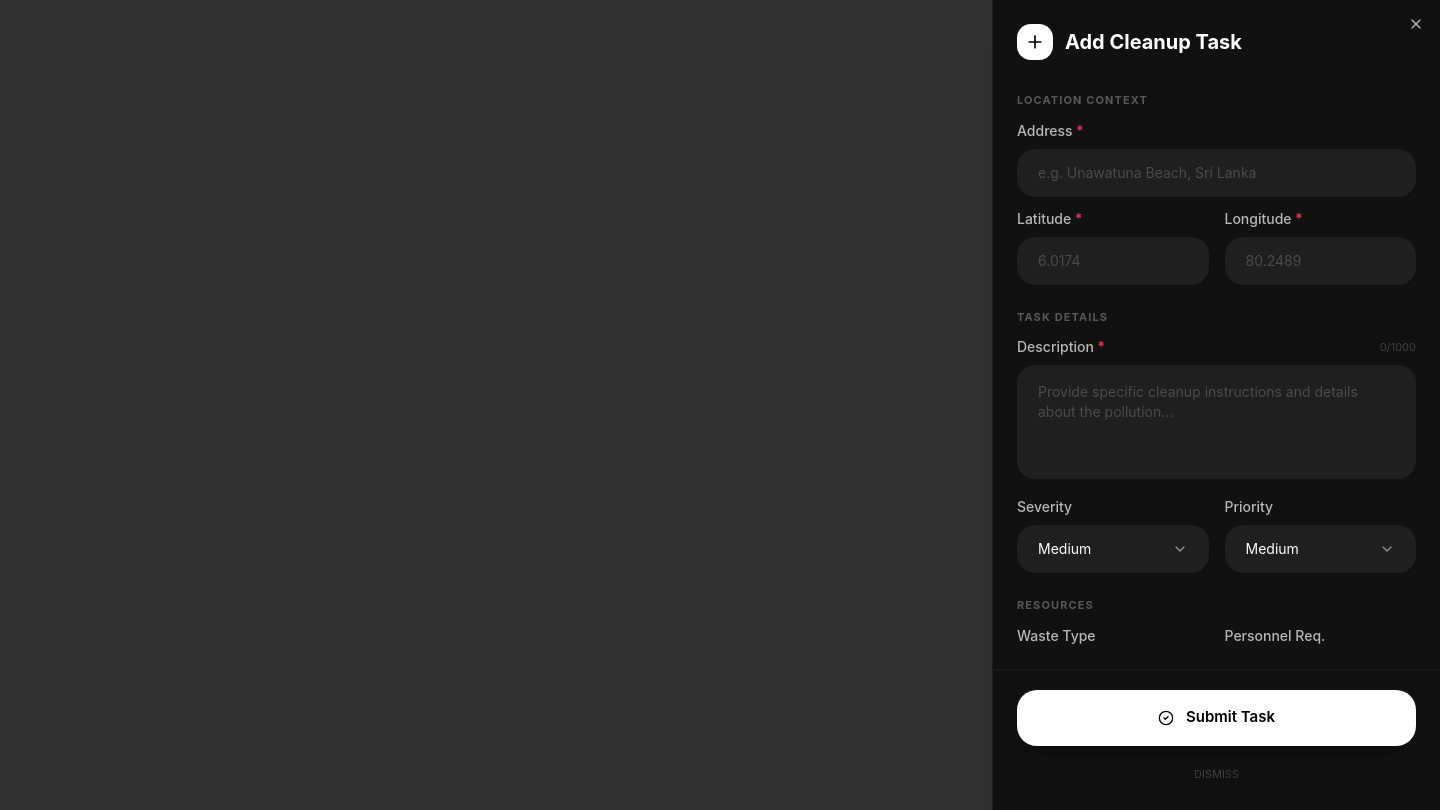
it: CreateTaskModal Component Validation › validates coordinates range
This screenshot has width=1440, height=810.
Type "95" into the number field with placeholder "6.0174" at (1113, 260), box [1017,236,1208,284]
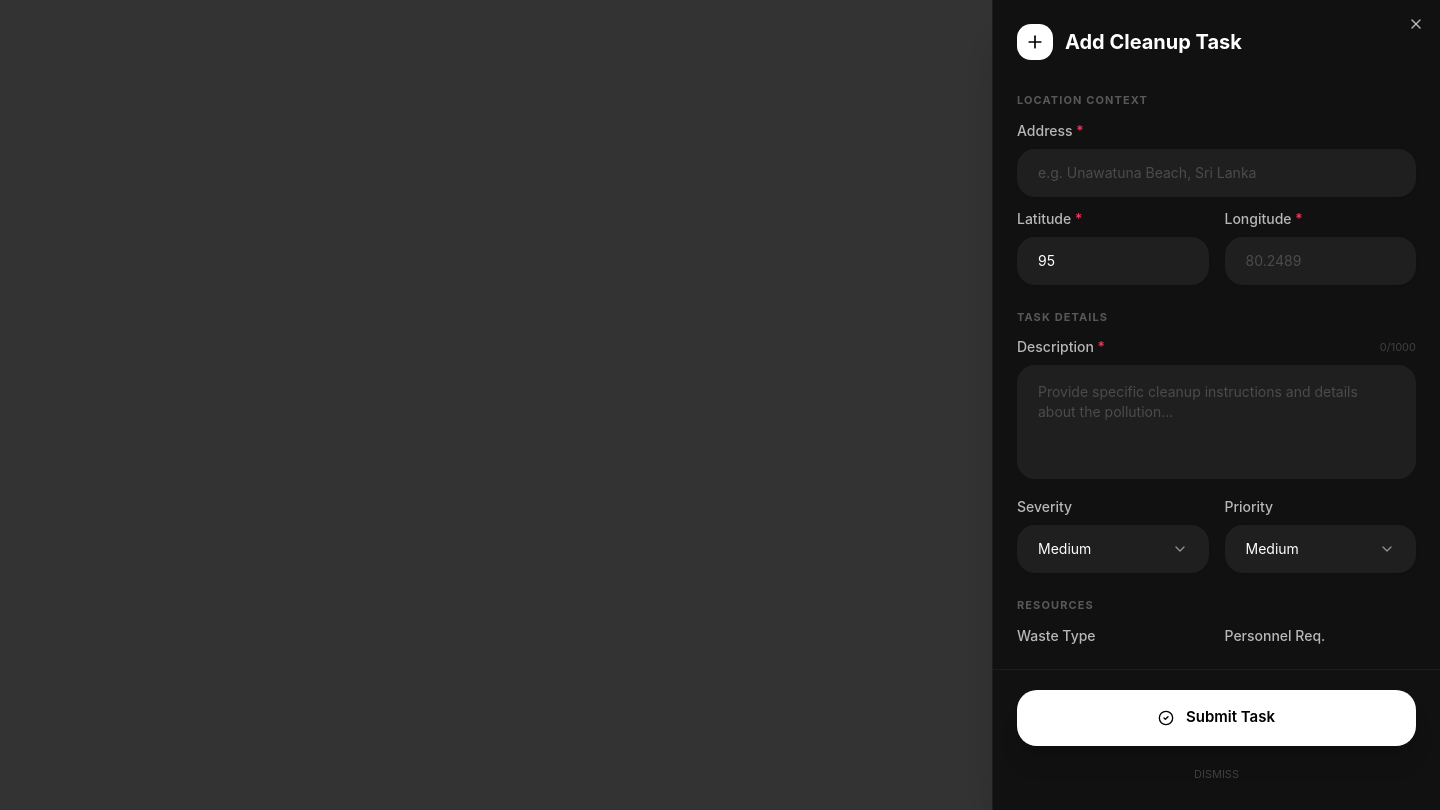
Type "200" into the number field with placeholder "80.2489" at (1320, 260), box [1224,236,1416,284]
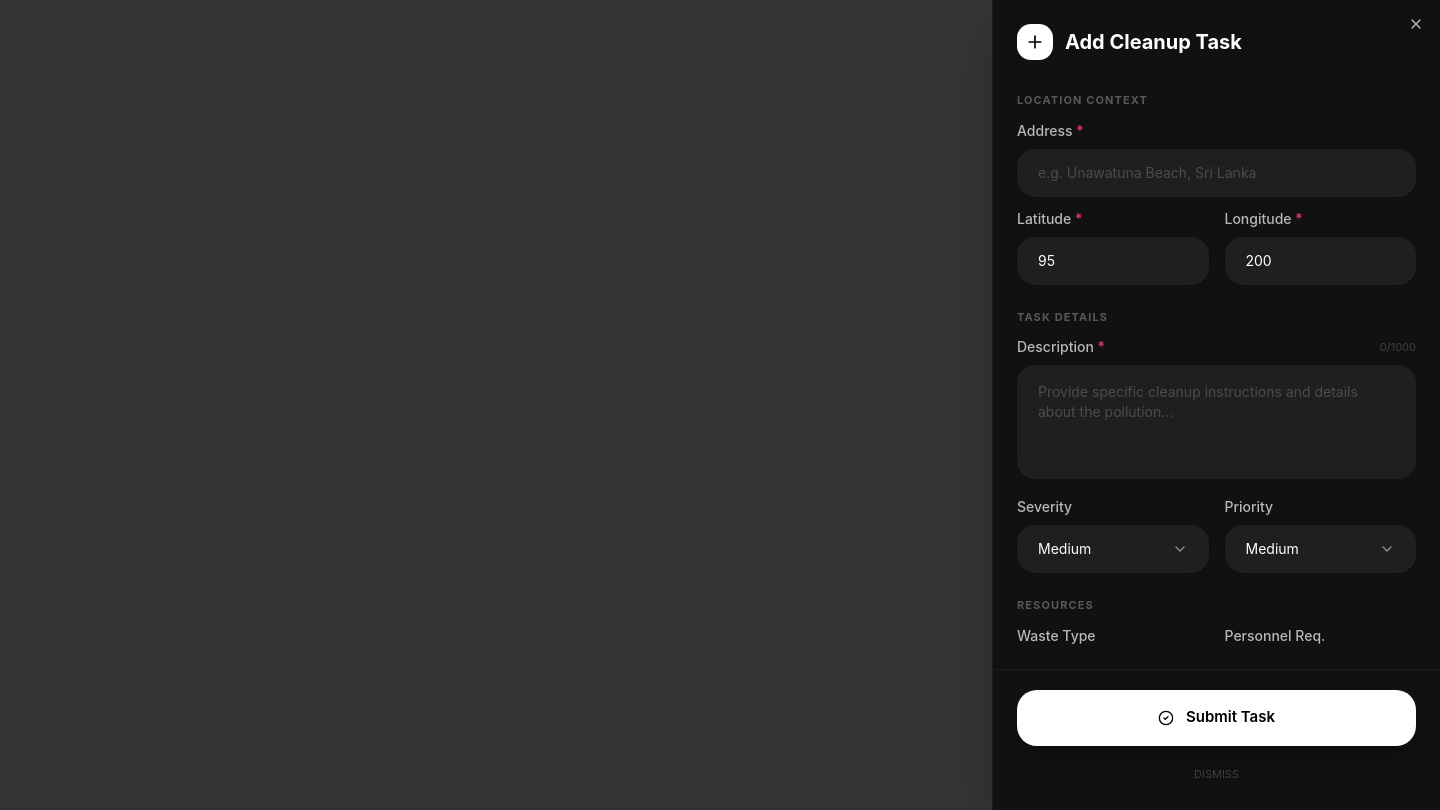
Click the button "Submit Task" at (1216, 718), box [1017,690,1416,746]
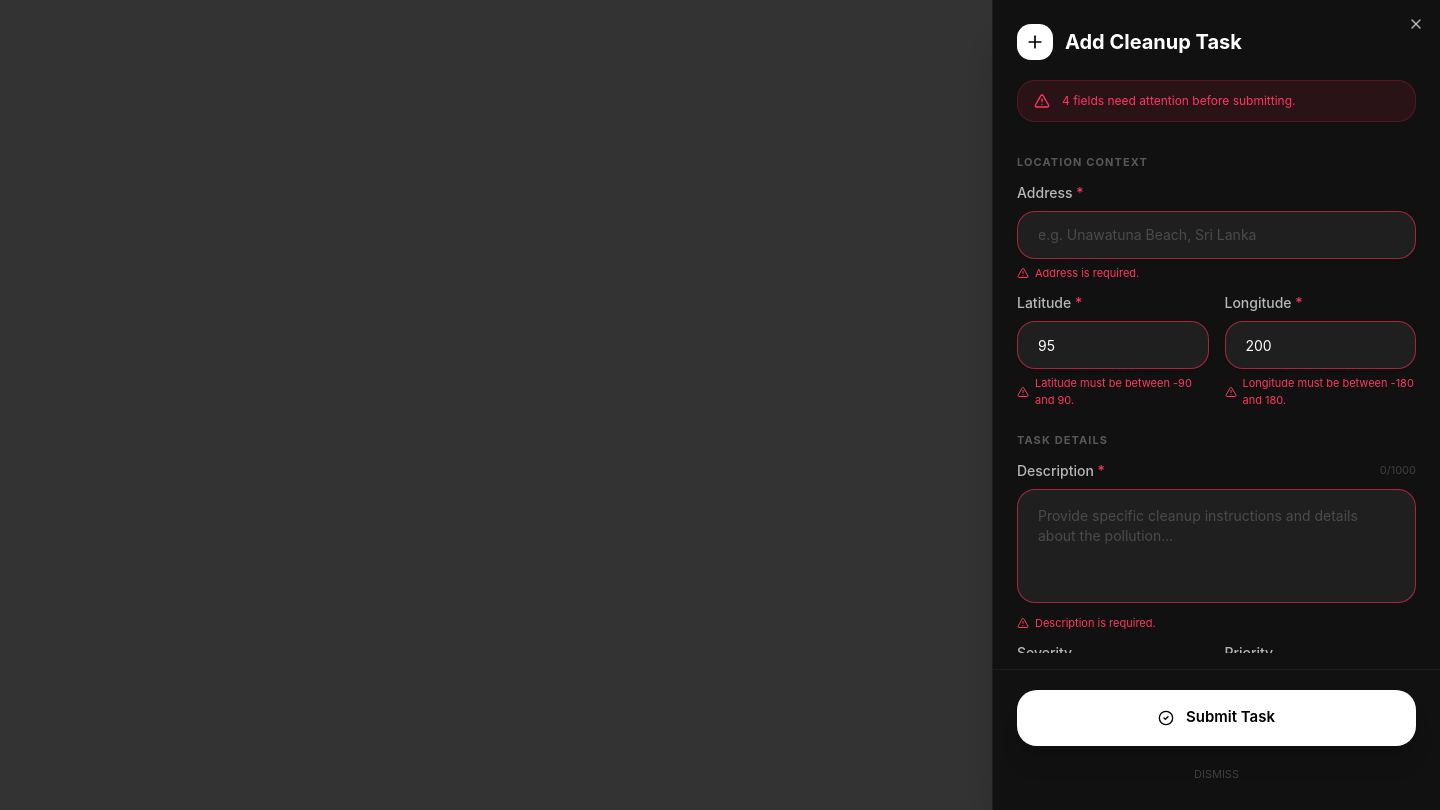
Check: the text "Latitude must be between -90 and 90." is shown, box [1017,375,1208,408]
Check: the text "Longitude must be between -180 and 180." is shown, box [1224,375,1416,408]
